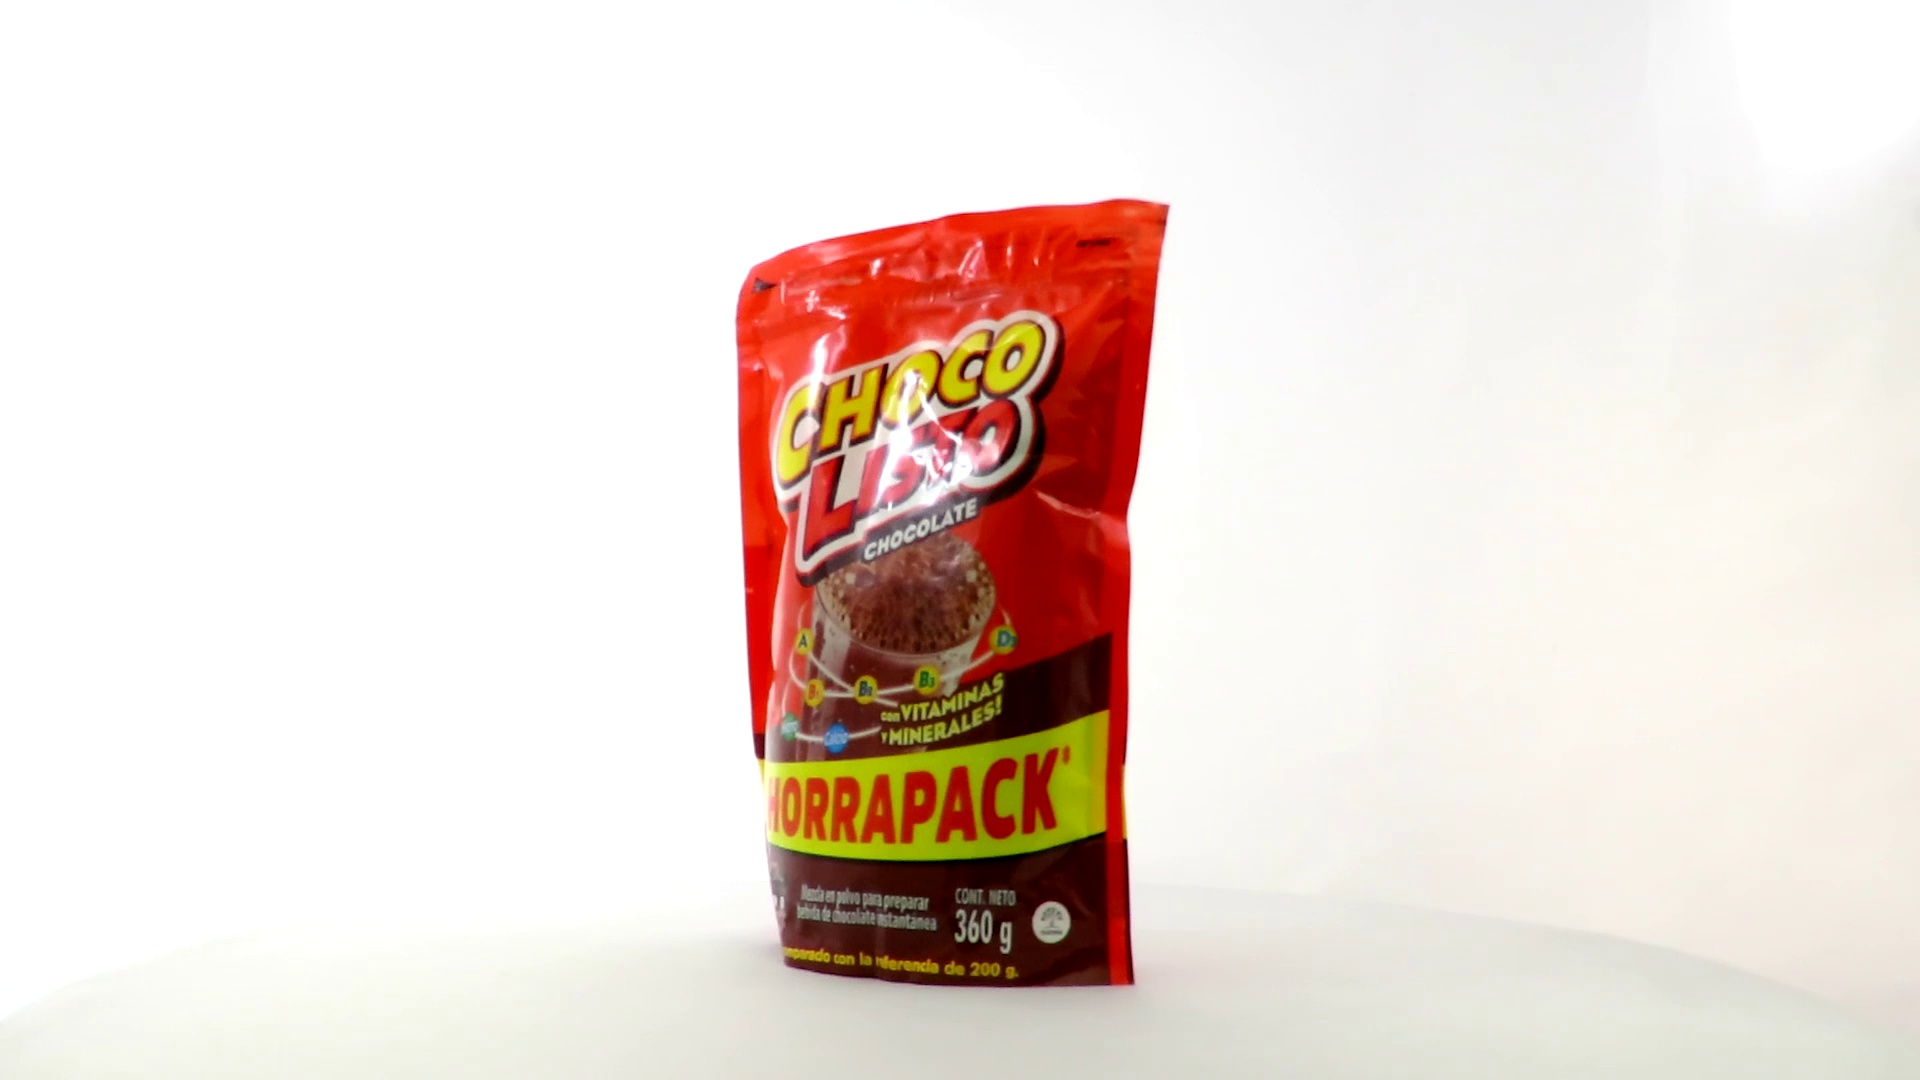COL0170103DYP36000: (731, 193, 1176, 994)
